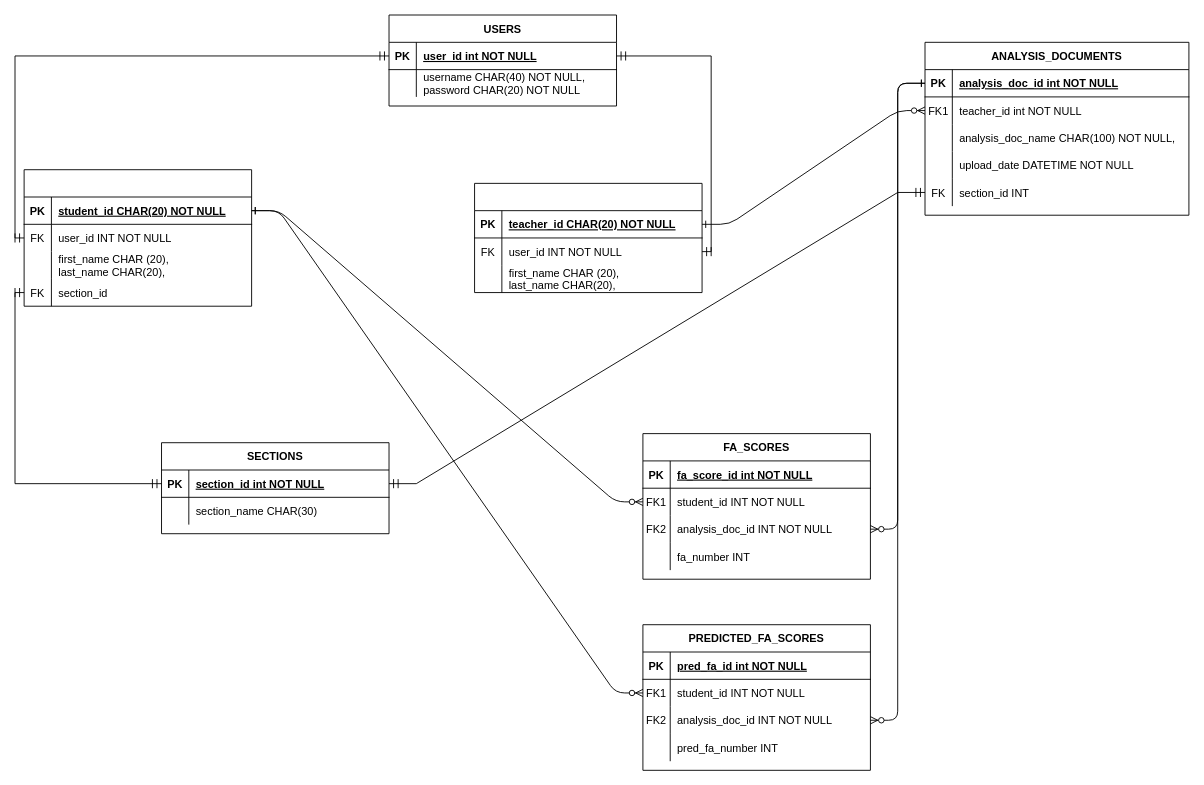
Some shapes in this 1204 by 785 pixel diagram are drawn without their labels. Here are the shapes that lost their labels. From the top down, the box of each, then its label:
(23, 169, 252, 306): STUDENTS
(474, 182, 702, 293): TEACHERS
